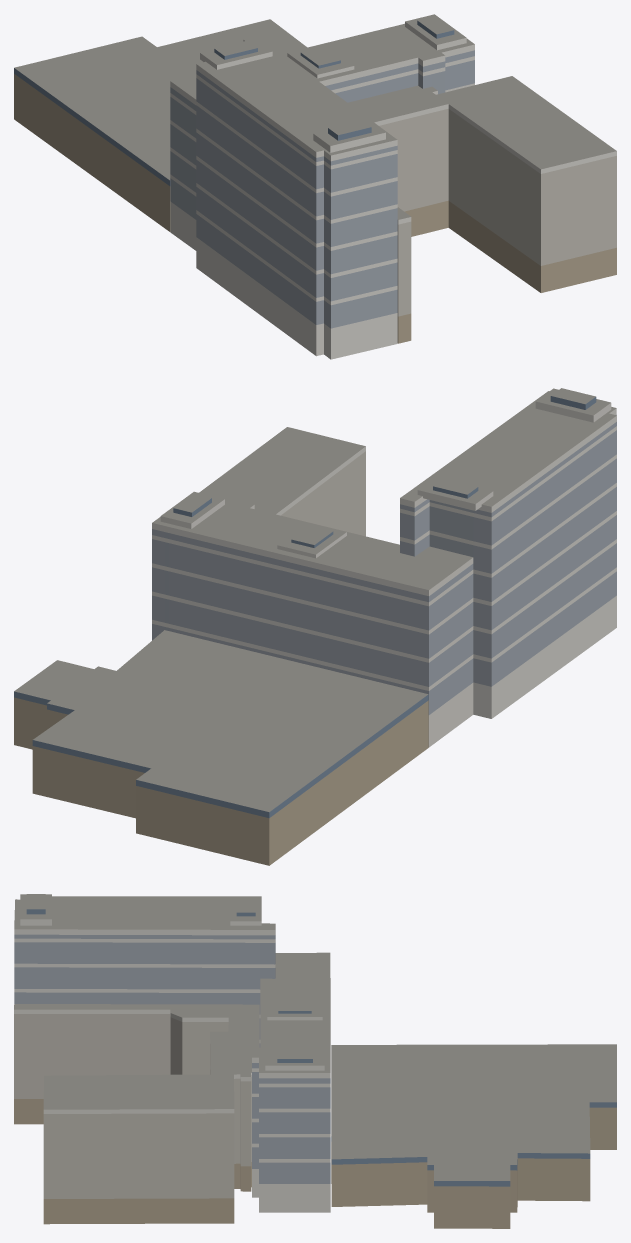
Rendered from oyo_casino_hotel_w118361200.glb.
The picture shows the model from 3 angles, top to bottom: view 1: azimuth 30°, elevation 25°; view 2: azimuth 150°, elevation 25°; view 3: azimuth 270°, elevation 25°; orthographic projection. The views are drawn at different scales.
Visible parts, largest first — view 1: Tower_w118361200; view 2: Tower_w118361200; view 3: Tower_w118361200.
Part boxes in pixels (<box>): Tower_w118361200: <box>14,14,616,359</box>; Tower_w118361200: <box>14,388,616,865</box>; Tower_w118361200: <box>14,894,616,1228</box>.
Bounding box in the file's own units: 86.12 × 55.8 × 152.
